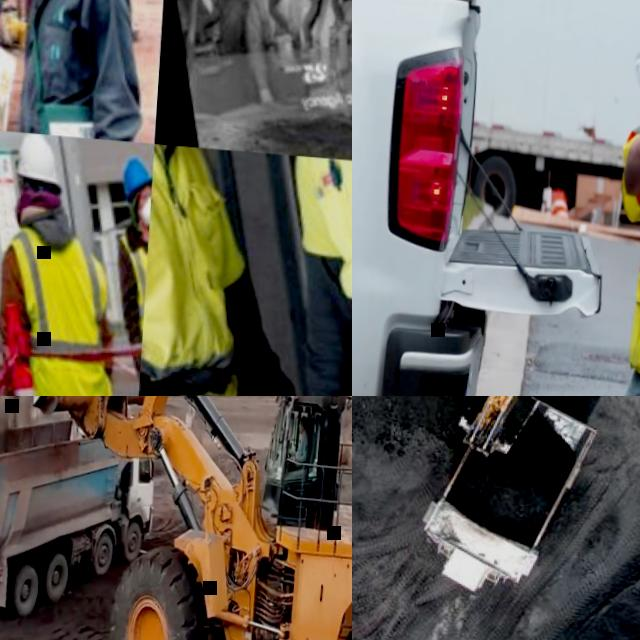Hardhat: (13, 127, 66, 190), (119, 155, 151, 199)
Mask: (137, 197, 149, 226)
NO-Hardhat: (299, 414, 307, 423)
NO-Mask: (297, 426, 301, 433)
NO-Safety Vest: (17, 0, 127, 134), (170, 0, 249, 110), (297, 0, 344, 110), (249, 0, 312, 79), (336, 0, 352, 117), (295, 431, 307, 457)
Person: (134, 139, 323, 396), (0, 127, 136, 396), (0, 0, 162, 138), (272, 150, 352, 396), (104, 153, 154, 374), (168, 0, 259, 119), (282, 413, 308, 476)
Safety Cone: (4, 360, 55, 396)
Safety Vest: (132, 141, 256, 396), (0, 224, 125, 396), (286, 150, 352, 300)
vehicle: (352, 0, 623, 396), (0, 396, 352, 640), (410, 396, 606, 606), (0, 396, 160, 630), (433, 396, 640, 476)
